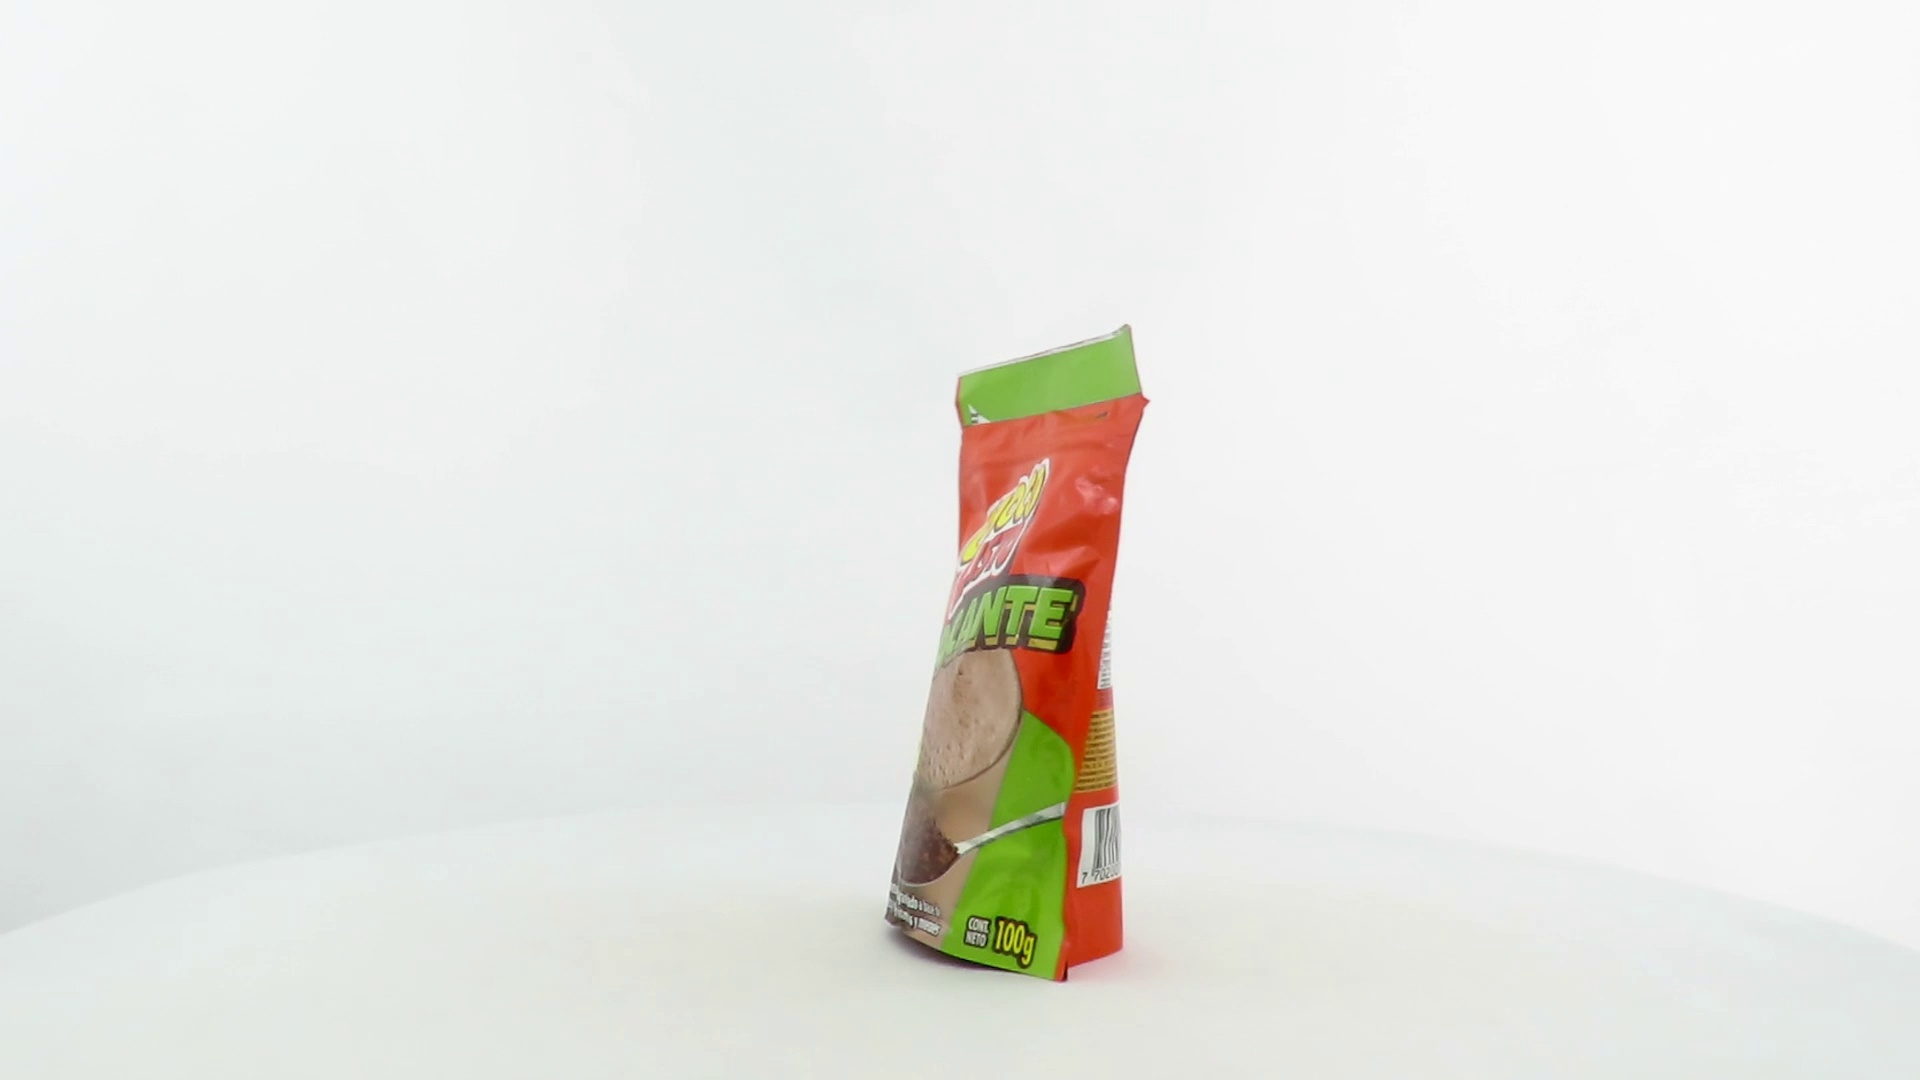COL0170102DYP10000: (880, 319, 1156, 989)
